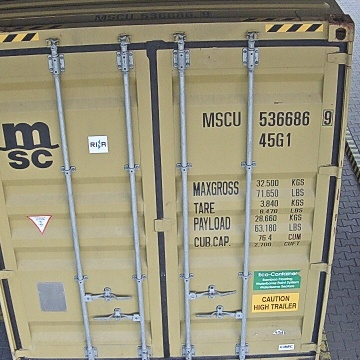serial_id: (203, 111, 332, 127)
